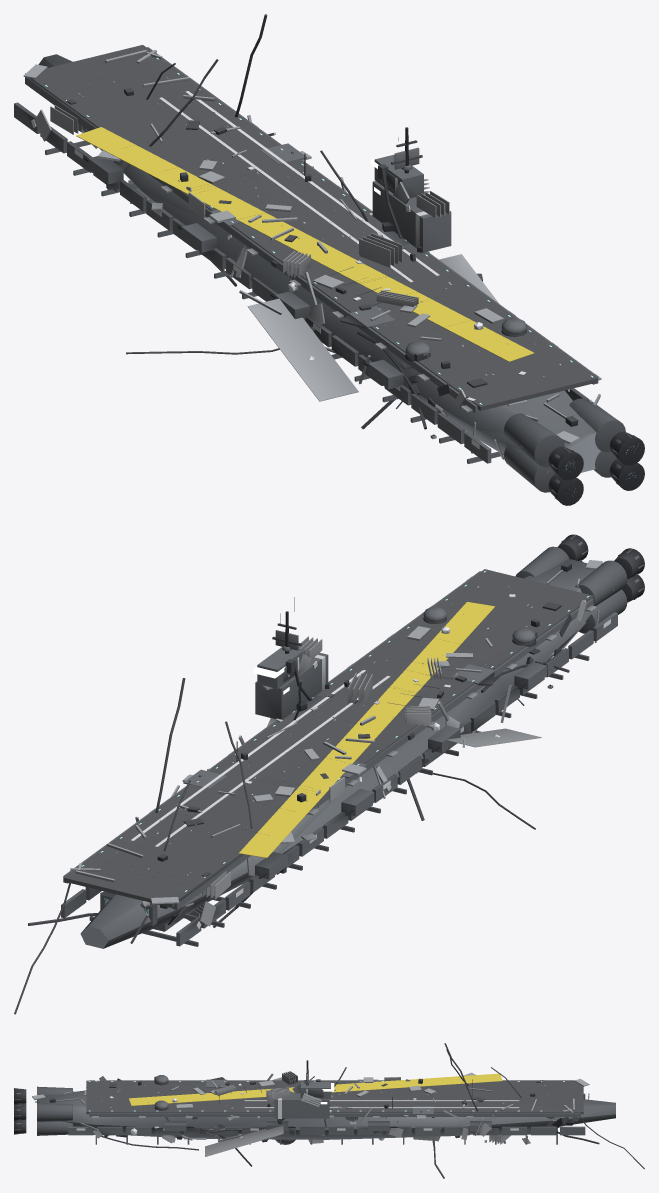
Rendered from capital_leviathan.glb.
3 views of the same model, one above another, from view 1: azimuth 30°, elevation 25°; view 2: azimuth 150°, elevation 25°; view 3: azimuth 270°, elevation 25° (orthographic). The views are drawn at different scales.
Visible parts, largest first — view 1: LeviathanHull, SUB_engine_1, SUB_engine_0, SUB_engine_3, SUB_engine_2; view 2: LeviathanHull, SUB_engine_1, SUB_engine_0, SUB_engine_3; view 3: LeviathanHull, SUB_engine_0, SUB_engine_2, SUB_engine_1.
Boxes of the visible parts, box(x1,y1,x2,y2) form: LeviathanHull: box(14, 14, 612, 472); SUB_engine_1: box(504, 413, 583, 480); SUB_engine_0: box(569, 398, 644, 465); SUB_engine_3: box(504, 445, 583, 505); SUB_engine_2: box(594, 447, 644, 490); LeviathanHull: box(14, 559, 617, 1014); SUB_engine_1: box(575, 548, 644, 606); SUB_engine_0: box(515, 534, 588, 578); SUB_engine_3: box(579, 574, 644, 633); LeviathanHull: box(32, 1043, 644, 1178); SUB_engine_0: box(14, 1103, 72, 1121); SUB_engine_2: box(14, 1119, 72, 1135); SUB_engine_1: box(14, 1086, 72, 1104).
Size of the model in its own units: 143 by 116 by 458.
